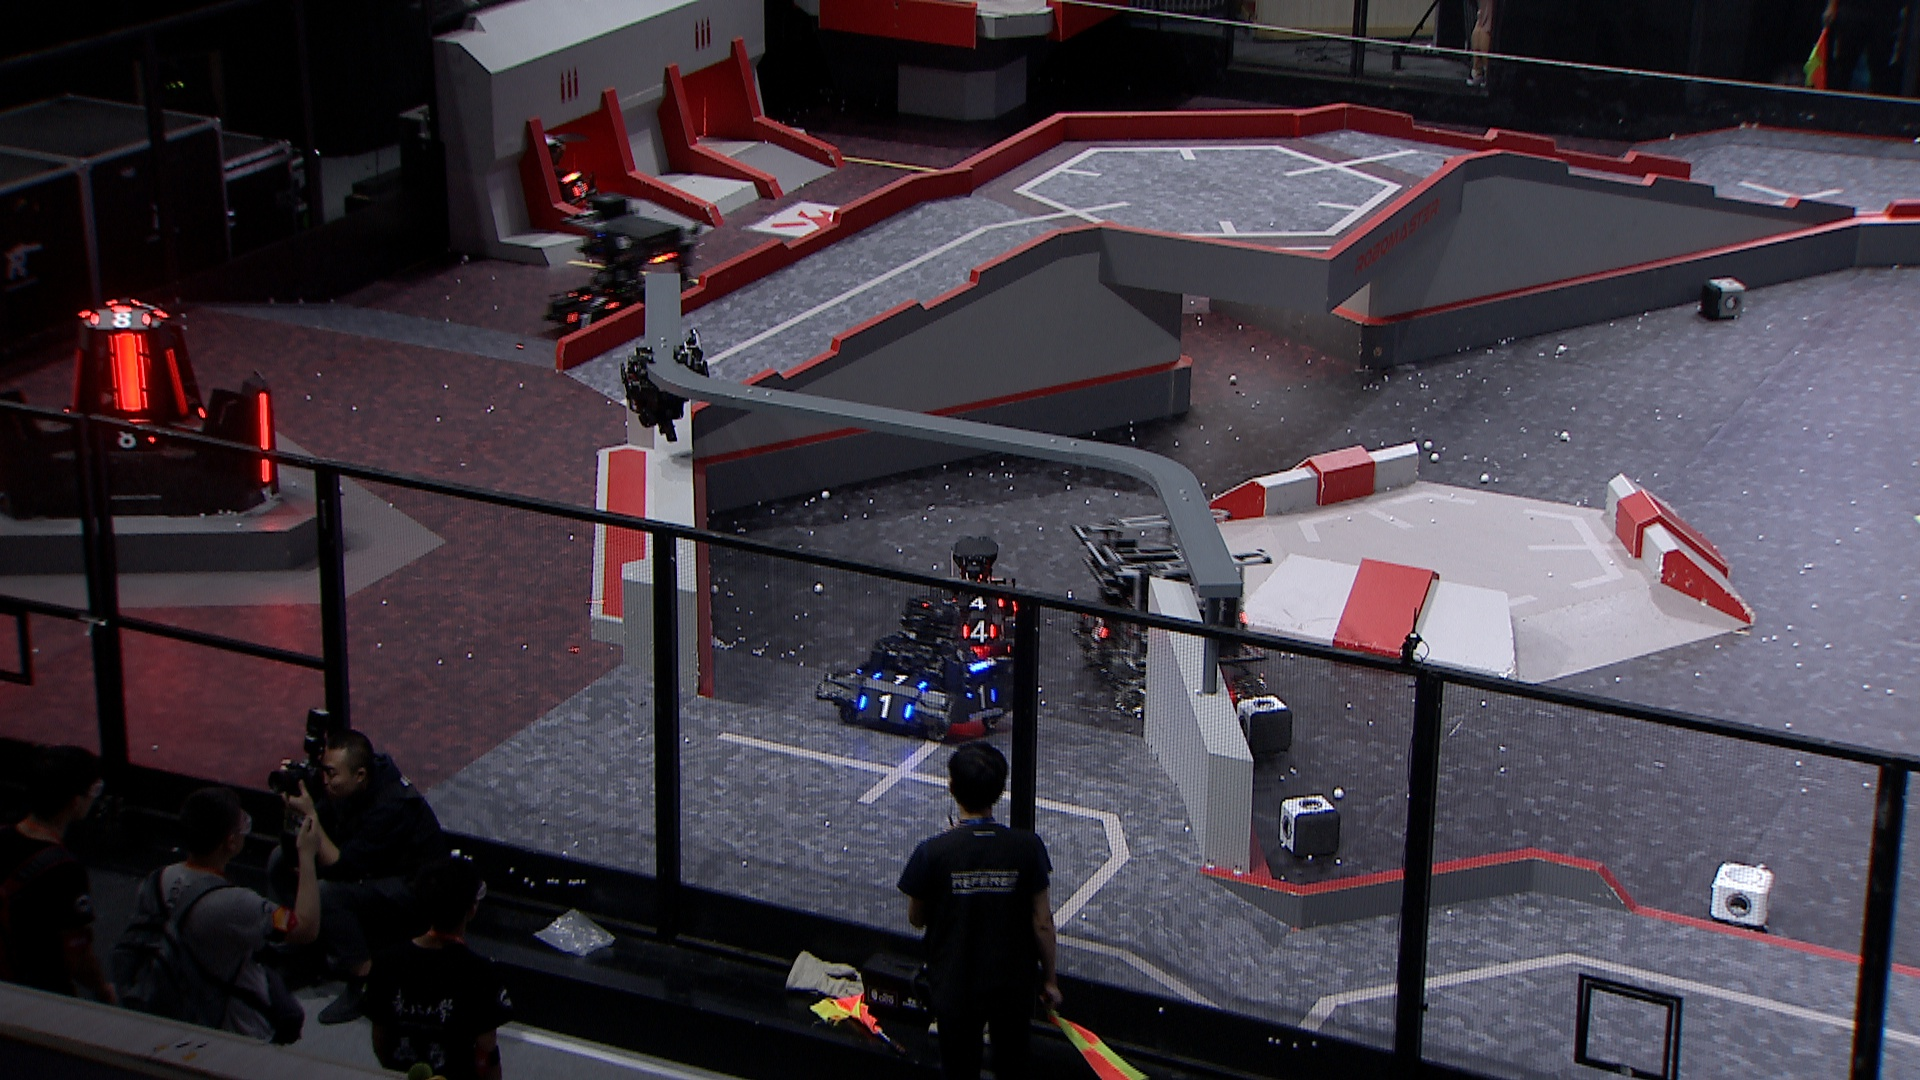armor: (109, 332, 160, 415), (855, 694, 916, 727), (164, 351, 193, 419), (256, 392, 276, 487), (83, 309, 156, 332), (111, 429, 161, 454), (869, 669, 928, 690), (67, 348, 83, 418), (955, 593, 1005, 613), (965, 683, 1001, 711), (960, 621, 998, 646), (564, 311, 599, 334), (1087, 616, 1112, 642), (579, 295, 618, 311), (568, 181, 593, 200)
car: (1068, 504, 1273, 716), (814, 585, 1019, 745), (539, 191, 702, 351), (916, 534, 1031, 654), (506, 135, 600, 214)
watcher: (617, 323, 717, 446)
